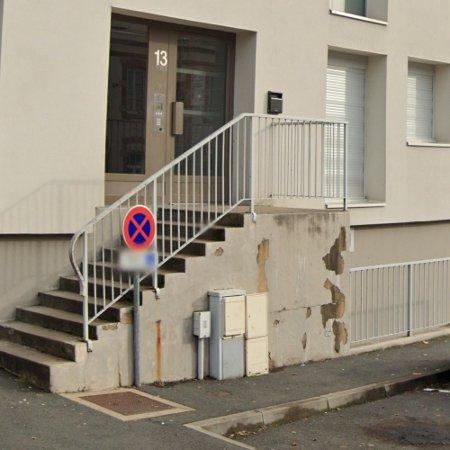stairs: (0, 114, 252, 392)
